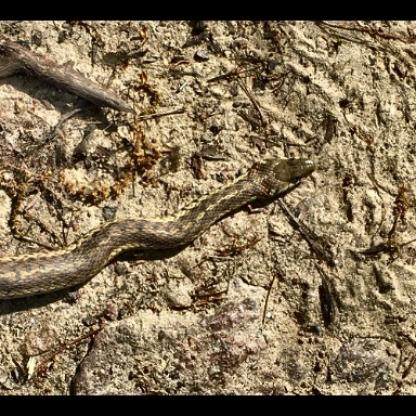Snake: (5, 155, 318, 303)
